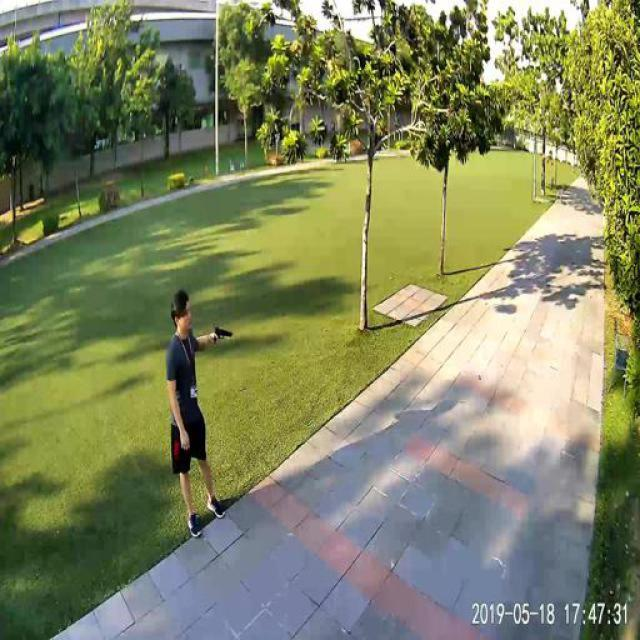weapon: (206, 326, 234, 346)
